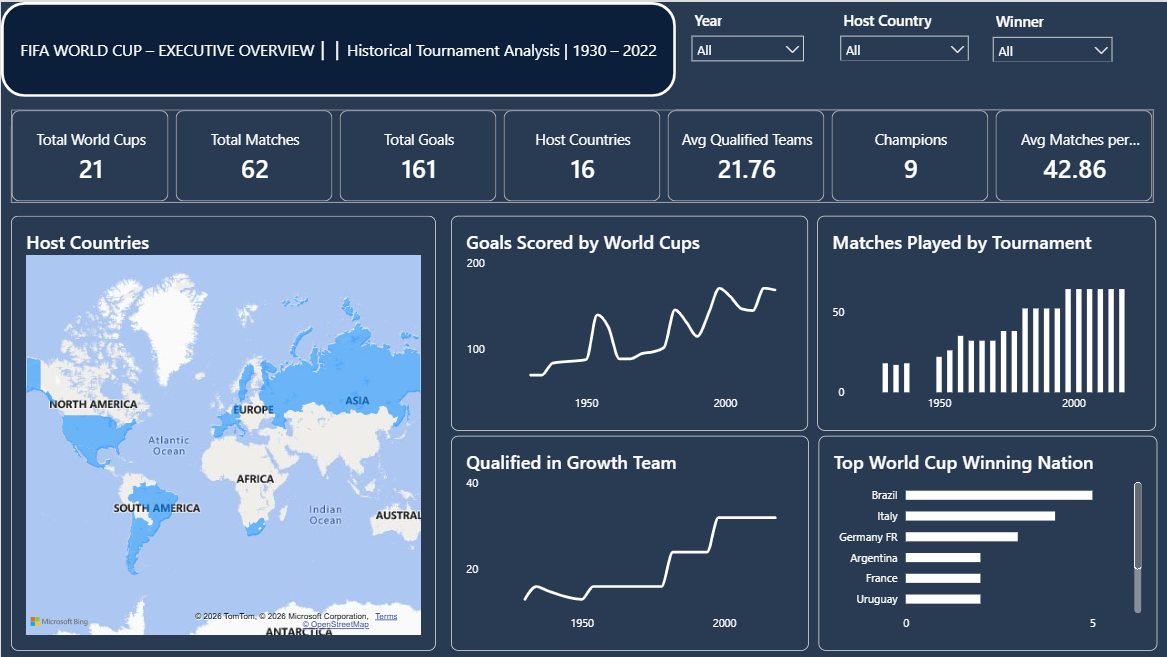

The page's visual inventory and layout, read from the dashboard file:
{"tool":"powerbi","page":{"name":"Page 1","canvas":[1280,720],"ordinal":0},"visuals":[{"type":"lineChart","title":" Goals Scored by  World Cups","fields":{"Category":["world_cups.Year"],"Y":["world_cups.Total Goals in World Cups"]},"box":[494,234.6,392,236],"z":0},{"type":"cardVisual","fields":{"Data":["world_cups.Total World Cups","world_cup_matches.Total Matches","world_cup_matches.Total Goals","world_cups.Host Countries","world_cups.Avg Qualified Teams","world_cups.Champions","world_cups.Avg Matches per Tournament"]},"box":[11,118,1257,102.9],"z":1000},{"type":"clusteredColumnChart","title":"Matches Played by Tournament","fields":{"Category":["world_cups.Year"],"Y":["Sum(world_cups.Matches Played)"]},"box":[896.1,234.6,371.9,236],"z":2000},{"type":"clusteredBarChart","title":"Top World Cup Winning Nation","fields":{"Category":["world_cups.Winner"],"Y":["world_cups.World Cup Titles"]},"box":[897.4,476.2,371.9,236],"z":3000},{"type":"filledMap","title":"Host Countries","fields":{"Category":["world_cups.Host Country"]},"box":[11,234.6,466.6,477.5],"z":4000},{"type":"lineChart","title":" Qualified in Growth Team","fields":{"Category":["world_cups.Year"],"Y":["Sum(world_cups.Qualified Teams)"]},"box":[494,476.2,392.5,236],"z":5000},{"type":"shape","box":[0,0,741,104.3],"z":6000},{"type":"slicer","fields":{"Values":["world_cups.Year"]},"box":[753.3,8.2,133.1,59],"z":6001},{"type":"slicer","fields":{"Values":["world_cups.Host Country"]},"box":[916.4,8.2,150.9,56.3],"z":6002},{"type":"slicer","fields":{"Values":["world_cups.Winner"]},"box":[1084.1,9.6,141.3,56.3],"z":6003}]}

Visuals, with their boxes in screenshot pixels (x1, y1, x2, y2), scaled from the page's 1280x720 canvas onto the 1167x657 screenshot:
" Goals Scored by  World Cups" lineChart: (left=450, top=214, right=808, bottom=429)
cardVisual - world_cups.Total World Cups x world_cup_matches.Total Matches: (left=10, top=108, right=1156, bottom=202)
"Matches Played by Tournament" clusteredColumnChart: (left=817, top=214, right=1156, bottom=429)
"Top World Cup Winning Nation" clusteredBarChart: (left=818, top=435, right=1157, bottom=650)
"Host Countries" filledMap: (left=10, top=214, right=435, bottom=650)
" Qualified in Growth Team" lineChart: (left=450, top=435, right=808, bottom=650)
shape: (left=0, top=0, right=676, bottom=95)
slicer - world_cups.Year: (left=687, top=7, right=808, bottom=61)
slicer - world_cups.Host Country: (left=835, top=7, right=973, bottom=59)
slicer - world_cups.Winner: (left=988, top=9, right=1117, bottom=60)
